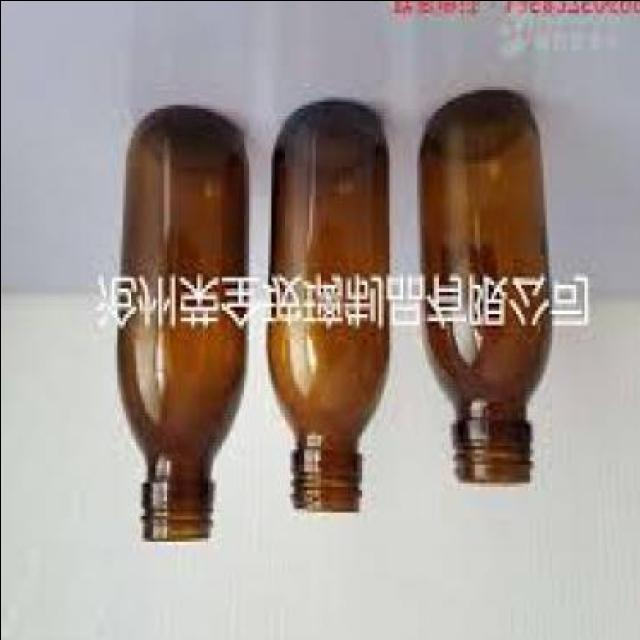kaca: (111, 111, 240, 544), (262, 104, 387, 514), (420, 89, 548, 486)
